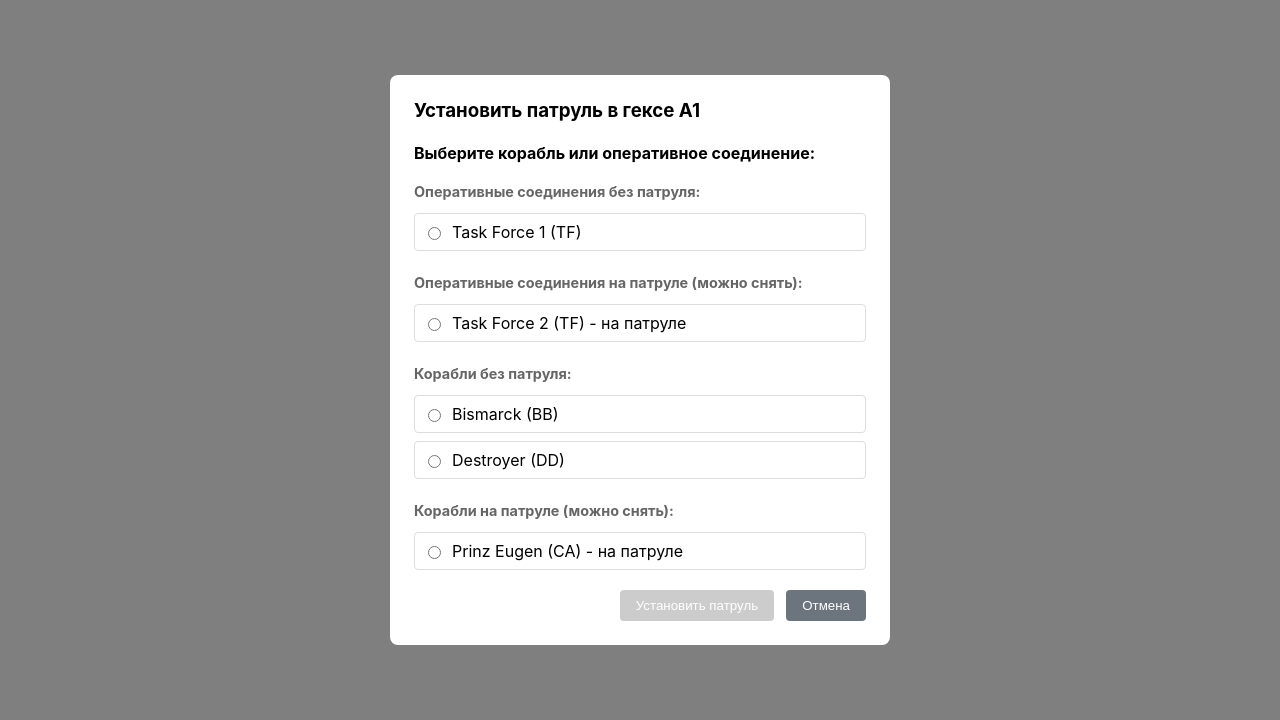
Scenario: PatrolDialog › Unit Selection › should allow selecting a Task Force without patrol
Click the radio button labelled "Task Force 1 (TF)" at coordinates (434, 234), box [428,227,441,240]
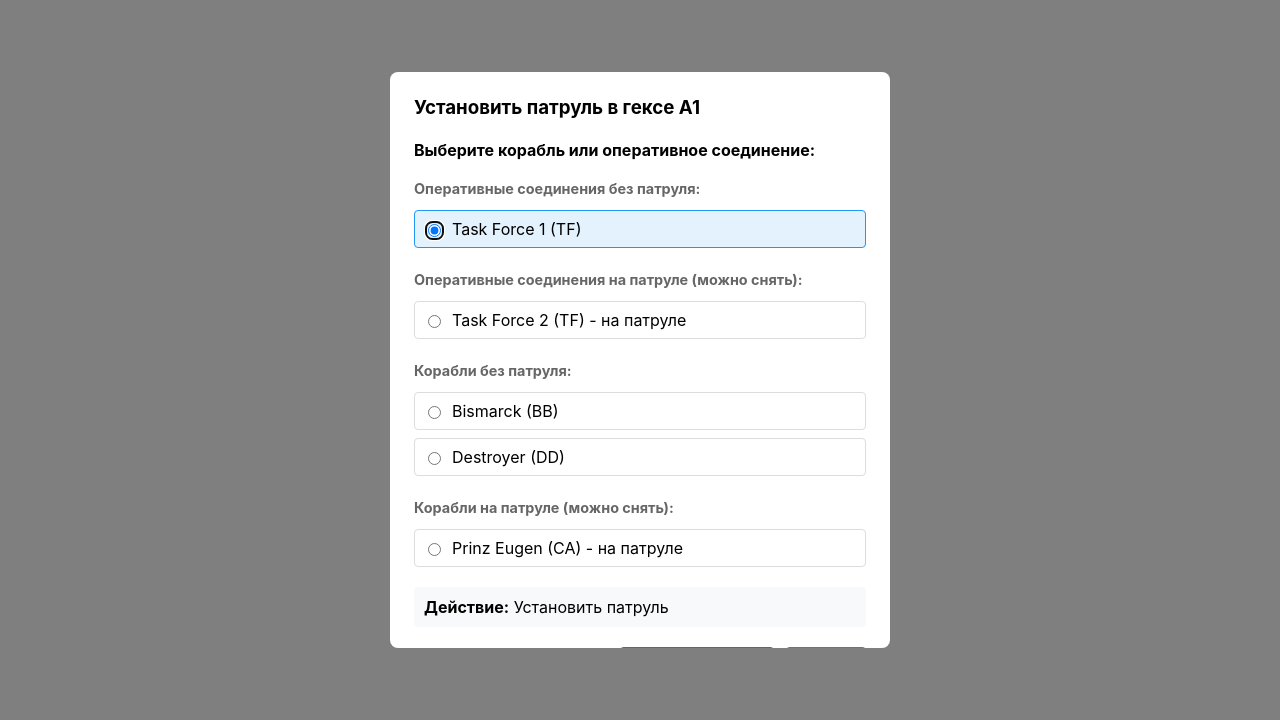
Result: the radio button labelled "Task Force 1 (TF)" is checked at [428,224,441,237]
Result: the text "Действие:" is shown at [424,597,509,617]
Result: the text "Установить патруль" is shown at [514,597,669,617]
